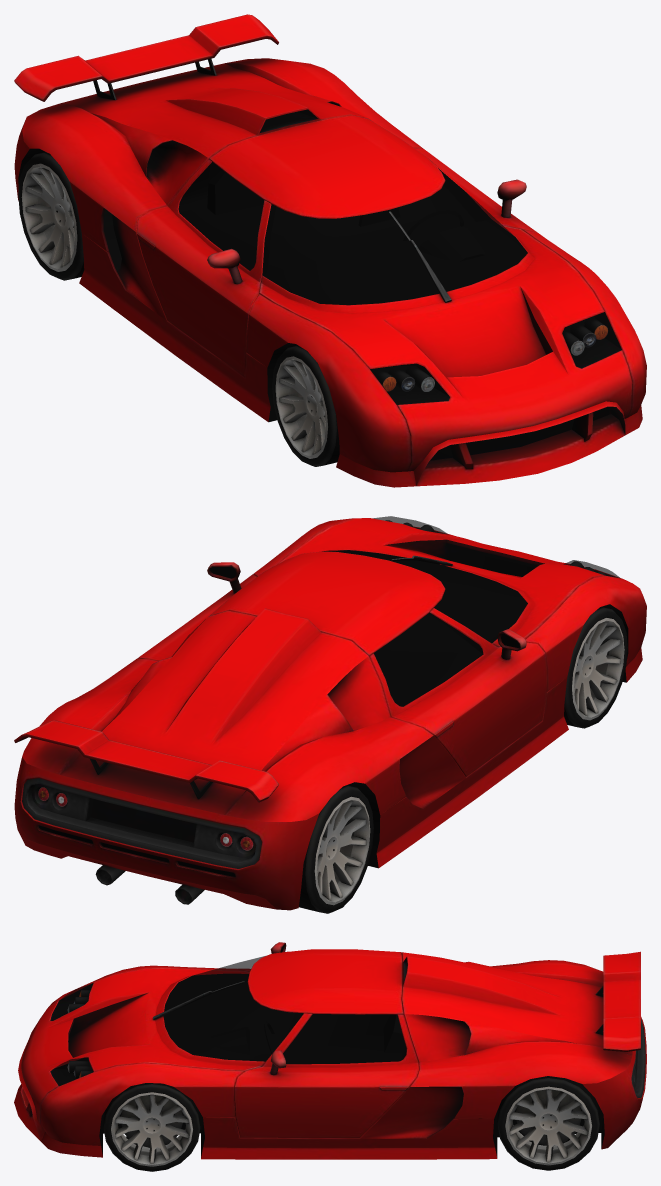
The model's file is sport.glb.
3 views of the same model, one above another, from view 1: azimuth 30°, elevation 25°; view 2: azimuth 150°, elevation 25°; view 3: azimuth 270°, elevation 25° (orthographic). The views are drawn at different scales.
Parts seen in each view (by area): view 1: body_part (×3), wheel_rr_part, wheel_fr_part; view 2: body_part (×2), wheel_rr_part, wheel_fr_part; view 3: body_part (×2), wheel_rl_part, wheel_fl_part.
Part boxes in pixels (x1,y1,x2,y2): body_part (×3): (14, 14, 646, 487); wheel_rr_part: (18, 152, 84, 280); wheel_fr_part: (272, 345, 339, 466); body_part (×2): (14, 516, 646, 910); wheel_rr_part: (299, 785, 373, 913); wheel_fr_part: (564, 606, 627, 728); body_part (×2): (14, 942, 646, 1159); wheel_rl_part: (497, 1076, 599, 1170); wheel_fl_part: (103, 1083, 200, 1171).
Size of the model in its own units: 1.77 by 1.04 by 3.91.
Materials: 4 (3 with a texture image).
